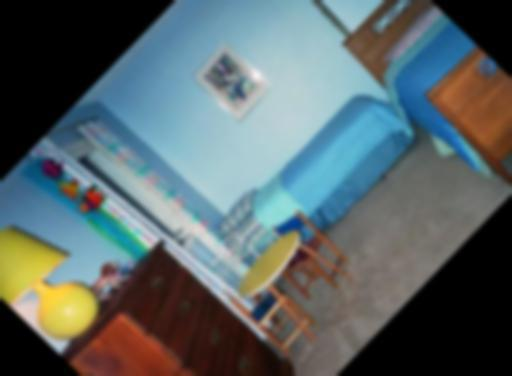Armario: (111, 247, 314, 376)
